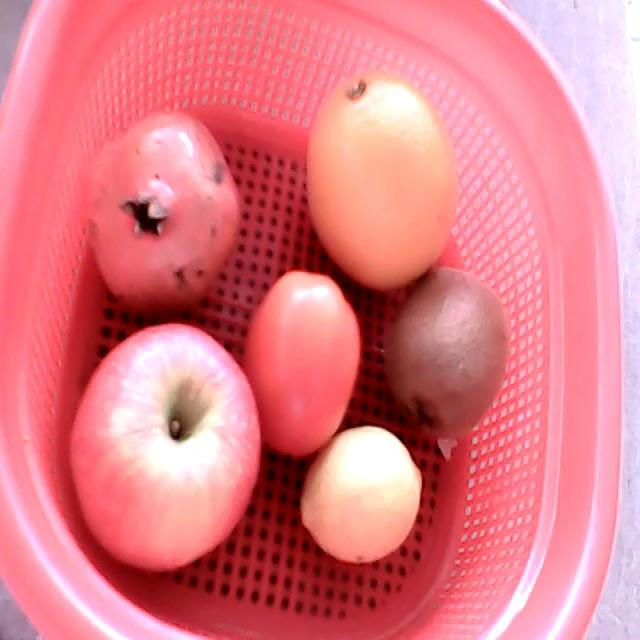apple: (68, 325, 262, 570)
kiwi: (385, 267, 511, 440)
lemon: (302, 426, 423, 563)
orange: (306, 70, 460, 287)
pomegranate: (82, 107, 241, 313)
tomato: (242, 269, 358, 457)
